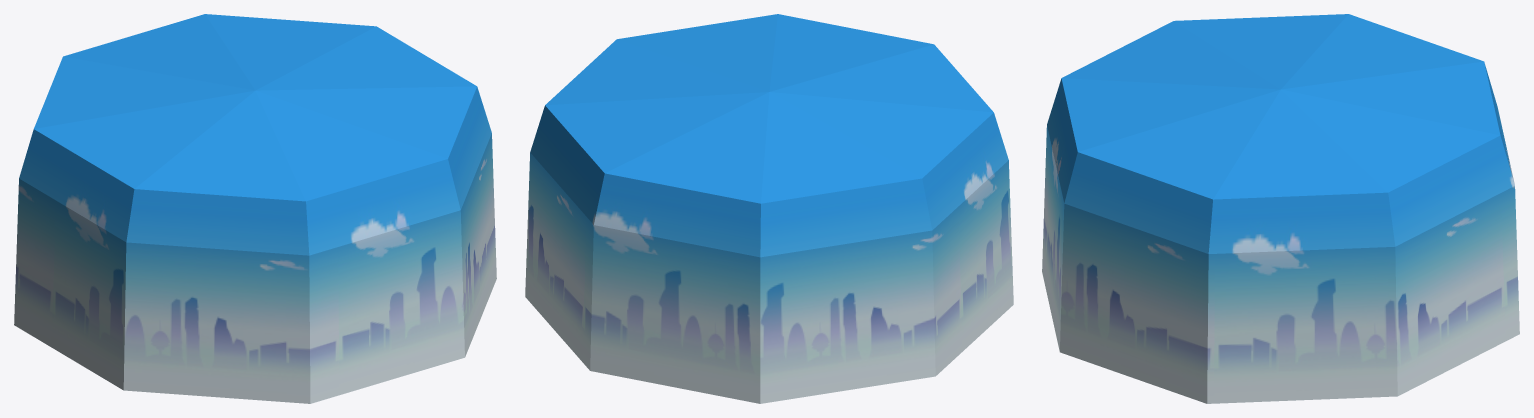
The model's file is city_street_pack.glb.
3 renders of one model, left to right at view 1: azimuth 30°, elevation 25°; view 2: azimuth 150°, elevation 25°; view 3: azimuth 270°, elevation 25°, orthographic. The views are drawn at different scales.
Visible parts, largest first — view 1: Sphere; view 2: Sphere; view 3: Sphere.
Boxes of the visible parts, x1,y1,x2,y2 form: Sphere: [14, 14, 496, 403]; Sphere: [525, 14, 1013, 403]; Sphere: [1042, 14, 1519, 403].
Size of what is drawn, in the model's own units: 425 by 210 by 425.
Materials: 57 (38 with a texture image).
